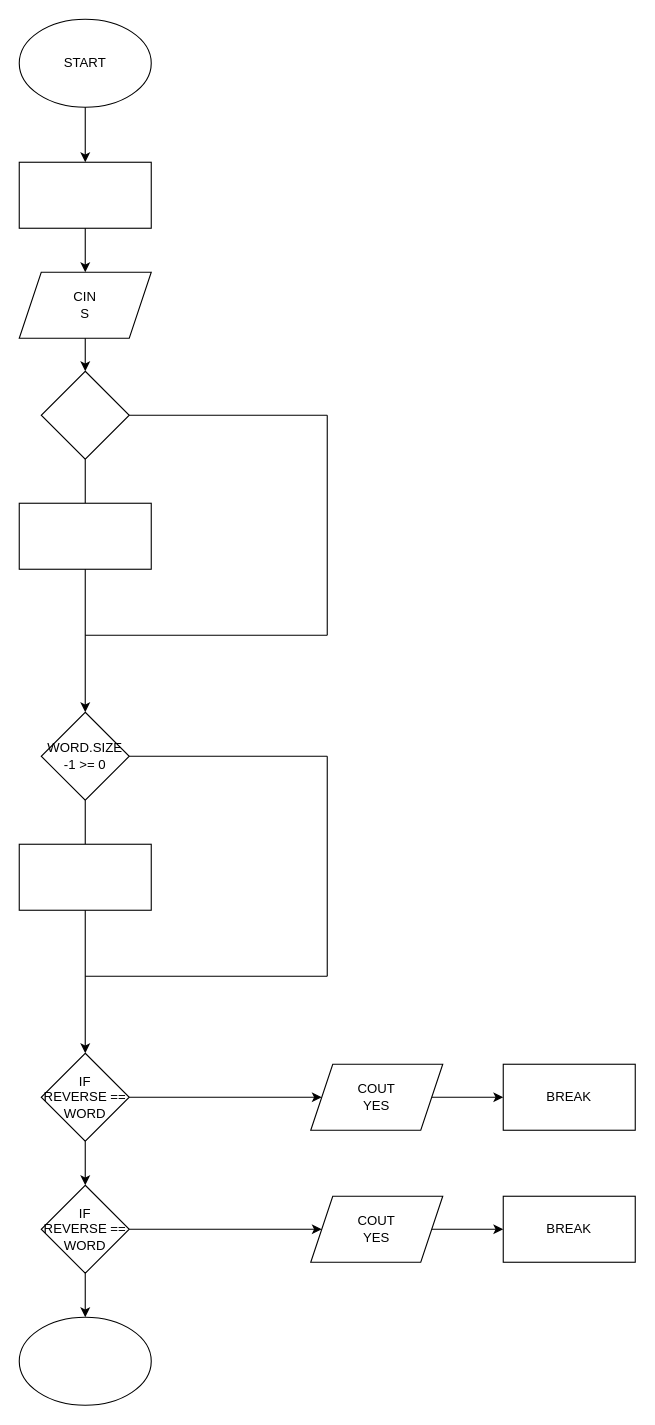
Some shapes in this 655 by 1425 pixel diagram are drawn without their labels. Each missing label, with the centre of its shape:
"0 < S.SIZE" goes at pixel 84 414.
"END" goes at pixel 84 1360.
"REVERSE += S[]" goes at pixel 84 876.
"S[] != ' ' WORD += S[]" goes at pixel 84 535.
"STRING WORD STRING REVERSE STRING S" goes at pixel 84 194.
